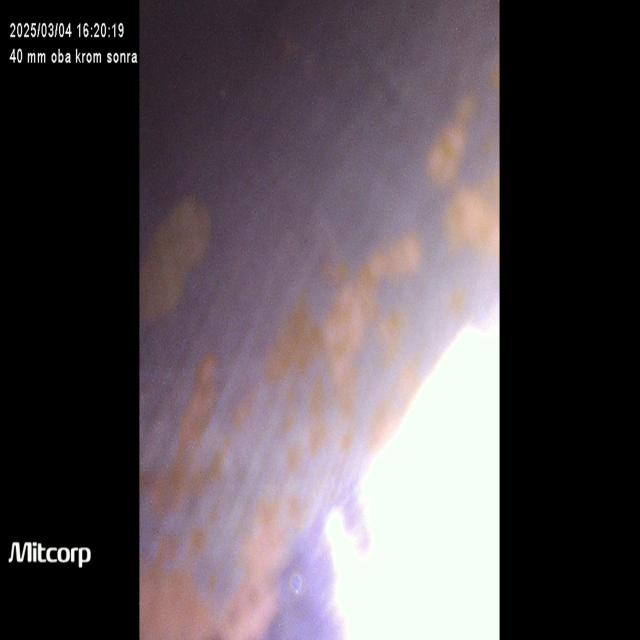hata_4.2: (278, 298, 422, 450), (137, 389, 242, 526), (416, 87, 499, 258), (134, 549, 284, 640), (138, 192, 226, 332), (325, 225, 423, 293), (255, 449, 314, 542), (189, 340, 233, 391), (446, 278, 476, 339)
